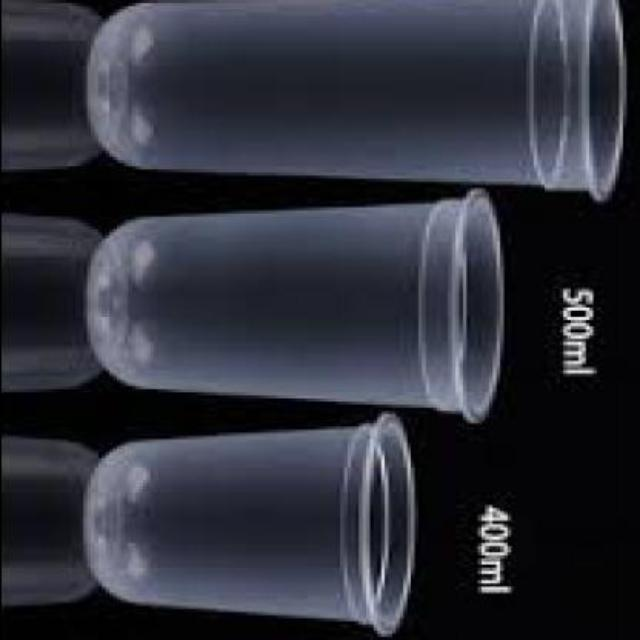plastic_box: (77, 0, 621, 198), (86, 186, 498, 427), (78, 418, 412, 632)
